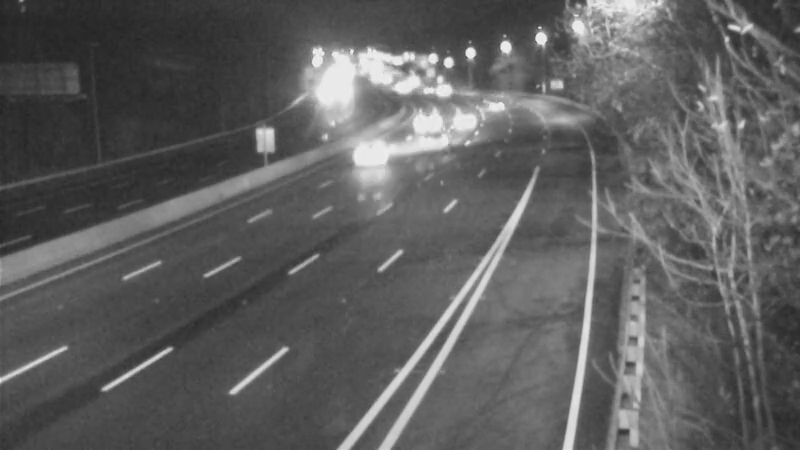vehicle: (472, 78, 522, 128), (444, 90, 494, 140), (398, 86, 448, 136), (402, 119, 452, 169), (343, 124, 393, 174)
